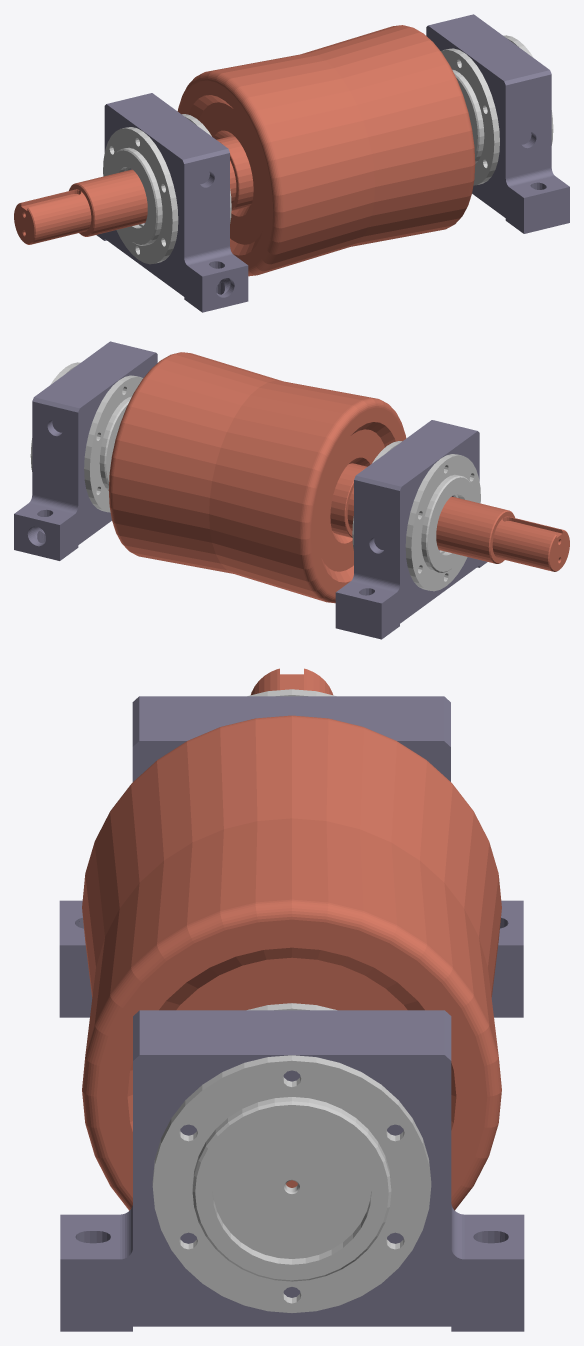
Rendered from rolik 1.fbx.
3 renders of one model, top to bottom at view 1: azimuth 30°, elevation 25°; view 2: azimuth 150°, elevation 25°; view 3: azimuth 270°, elevation 25°, orthographic. The views are drawn at different scales.
Parts seen in each view (by area): view 1: 8, 14 2, 14 1, 12 3, 12 1; view 2: 8, 14 2, 14 1, 12 3, 12 1; view 3: 8, 14 1, 9, 14 2.
Part boxes in pixels (bbox=[...]): 8: bbox=[14, 25, 475, 276]; 14 2: bbox=[96, 93, 248, 312]; 14 1: bbox=[426, 14, 569, 233]; 12 3: bbox=[103, 127, 178, 264]; 12 1: bbox=[441, 48, 499, 185]; 8: bbox=[108, 352, 569, 603]; 14 2: bbox=[335, 420, 487, 639]; 14 1: bbox=[14, 341, 157, 560]; 12 3: bbox=[405, 454, 480, 591]; 12 1: bbox=[84, 375, 143, 512]; 8: bbox=[82, 668, 501, 1210]; 14 1: bbox=[60, 1010, 524, 1331]; 9: bbox=[152, 1055, 431, 1312]; 14 2: bbox=[59, 696, 523, 1017].
Bounding box in the file's own units: 43.53 × 15.84 × 17.52.
